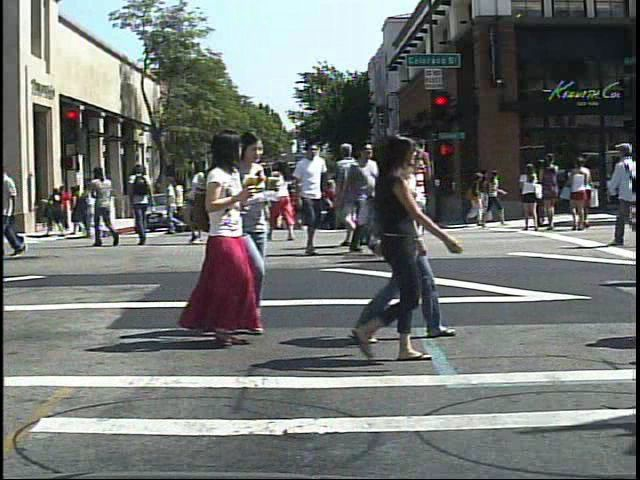person: (331, 128, 464, 363), (353, 134, 459, 345), (188, 128, 272, 349), (388, 134, 443, 263), (238, 128, 272, 335), (374, 136, 420, 261), (289, 135, 330, 261), (337, 138, 376, 249), (606, 130, 637, 251), (358, 143, 393, 250), (236, 146, 272, 246), (267, 148, 299, 248), (87, 163, 120, 248), (129, 165, 159, 246), (517, 159, 545, 234), (287, 164, 307, 233), (57, 183, 77, 233)
